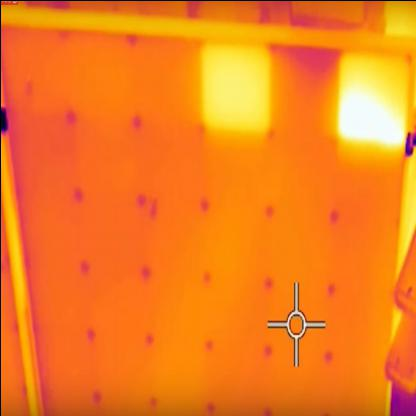Defects: (340, 50, 409, 144), (204, 42, 266, 136)
